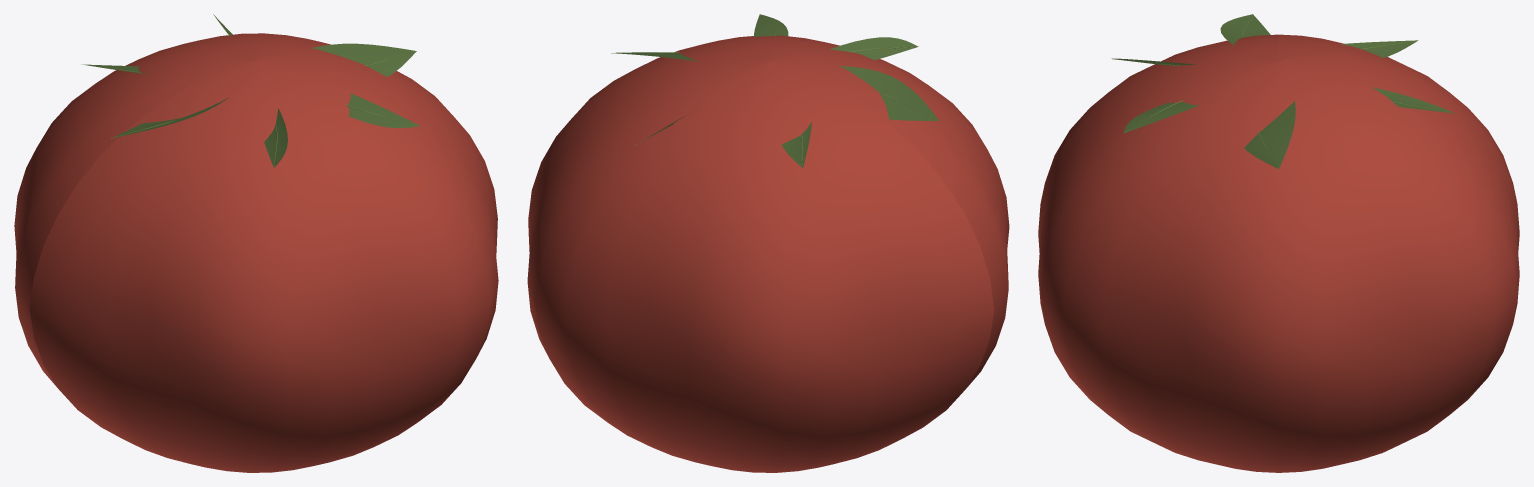
The model's file is props_p5__p5_tomato.glb.
The picture shows the model from 3 angles, left to right: view 1: azimuth 30°, elevation 25°; view 2: azimuth 150°, elevation 25°; view 3: azimuth 270°, elevation 25°; orthographic projection.
Parts seen in each view (by area): view 1: lobed_tomato, tomato_sepal_0, tomato_sepal_1, tomato_sepal_2, tomato_sepal_3; view 2: lobed_tomato, tomato_sepal_3, tomato_sepal_2, tomato_sepal_4, tomato_sepal_1; view 3: lobed_tomato, tomato_sepal_0, tomato_sepal_3, tomato_sepal_1, tomato_sepal_4, tomato_sepal_5.
Boxes of the visible parts, bbox=[...] form: lobed_tomato: bbox=[14, 33, 498, 472]; tomato_sepal_0: bbox=[310, 43, 416, 76]; tomato_sepal_1: bbox=[348, 93, 420, 127]; tomato_sepal_2: bbox=[264, 108, 287, 167]; tomato_sepal_3: bbox=[113, 97, 228, 137]; lobed_tomato: bbox=[527, 35, 1009, 472]; tomato_sepal_3: bbox=[838, 66, 938, 120]; tomato_sepal_2: bbox=[830, 37, 917, 60]; tomato_sepal_4: bbox=[781, 122, 811, 167]; tomato_sepal_1: bbox=[753, 14, 788, 37]; lobed_tomato: bbox=[1038, 34, 1519, 472]; tomato_sepal_0: bbox=[1244, 100, 1295, 168]; tomato_sepal_3: bbox=[1220, 14, 1270, 45]; tomato_sepal_1: bbox=[1124, 102, 1199, 132]; tomato_sepal_4: bbox=[1340, 40, 1417, 57]; tomato_sepal_5: bbox=[1372, 87, 1453, 112].
Size of the model in its own units: 0.091 by 0.0738 by 0.0839.
